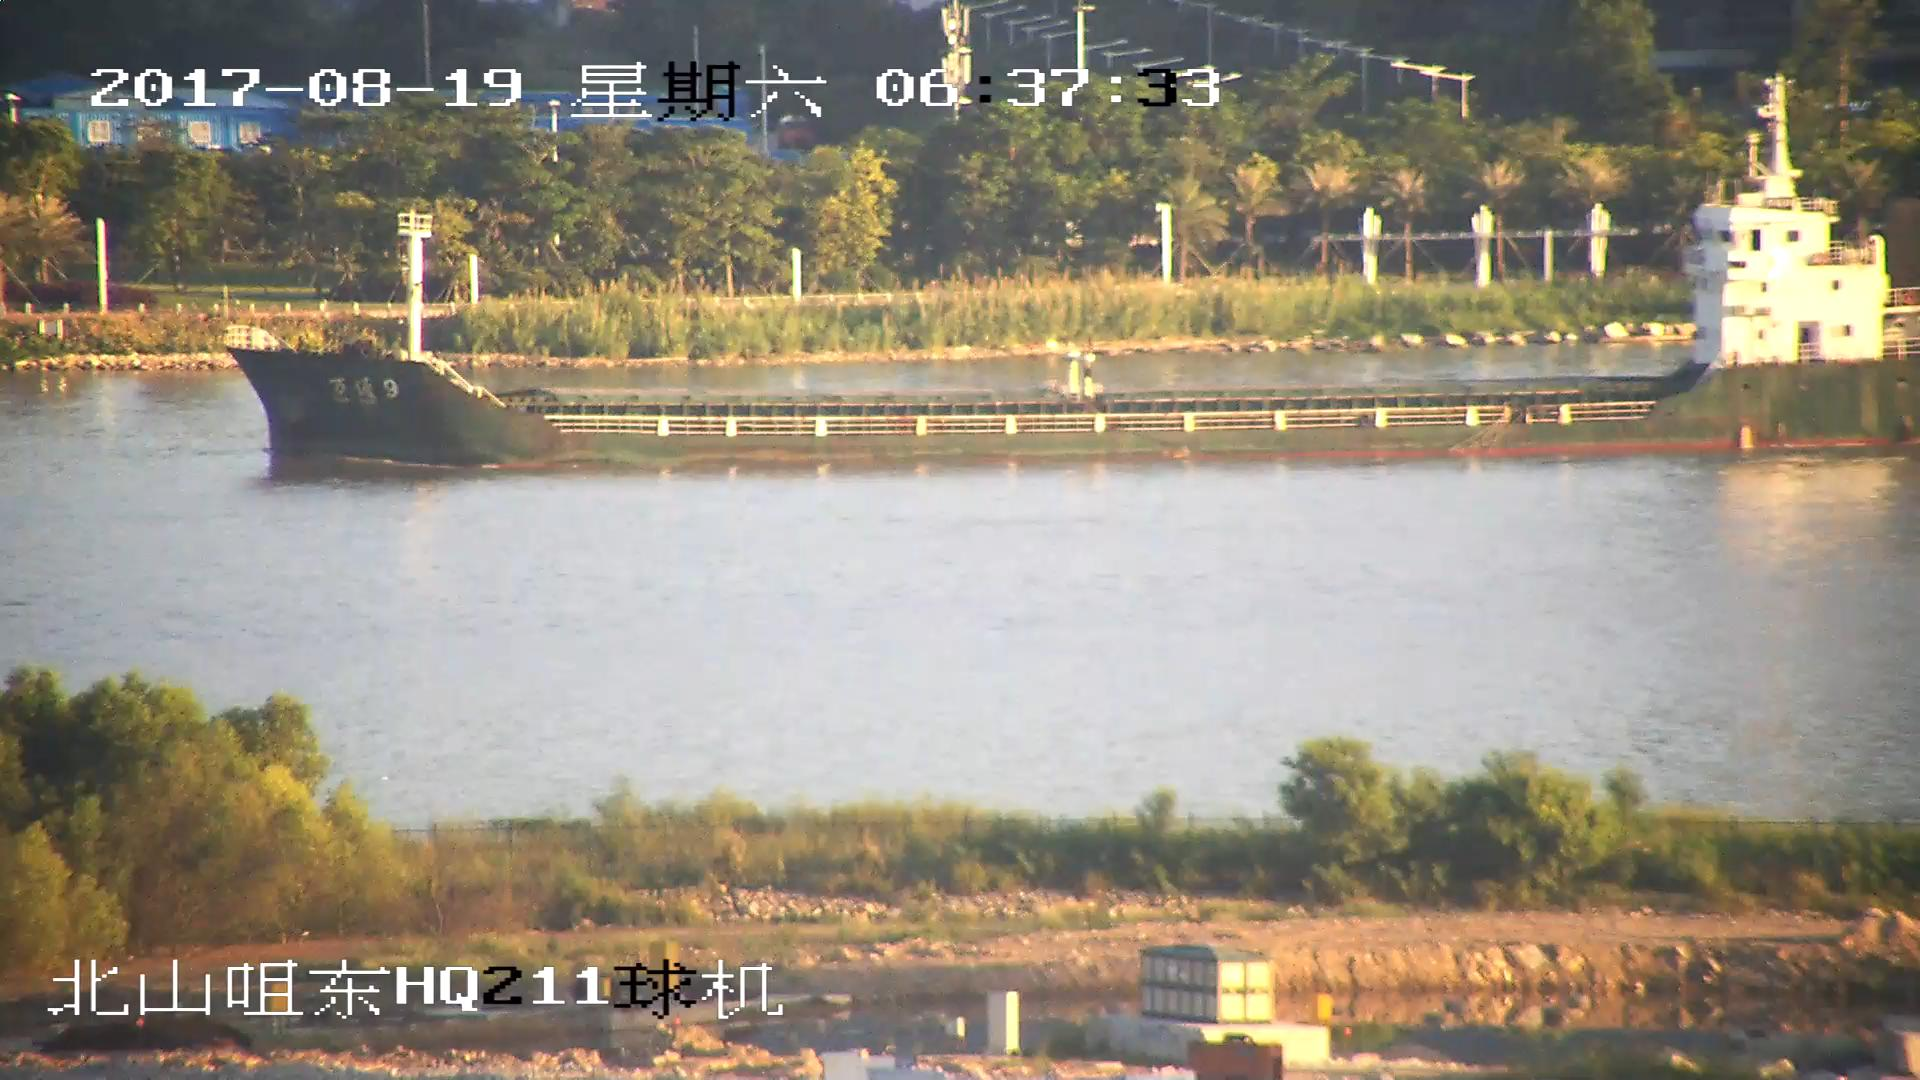general cargo ship: (225, 107, 1920, 463)
